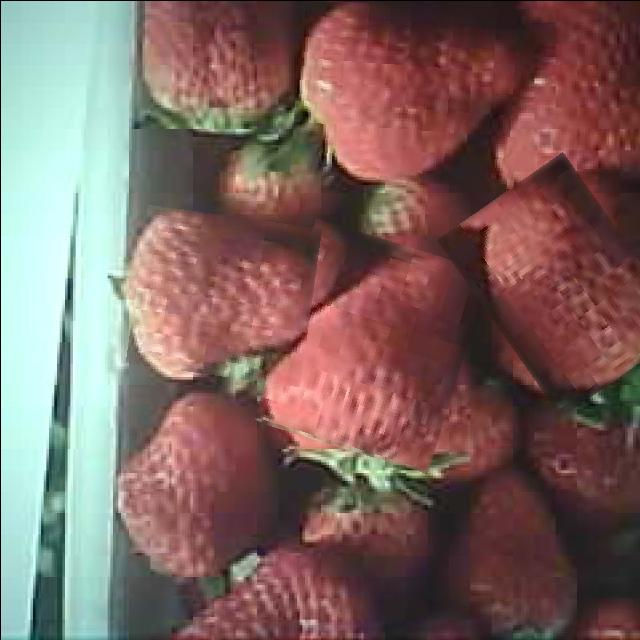strawberry: (267, 228, 476, 462), (460, 163, 640, 405), (292, 0, 522, 184), (130, 210, 316, 380)
